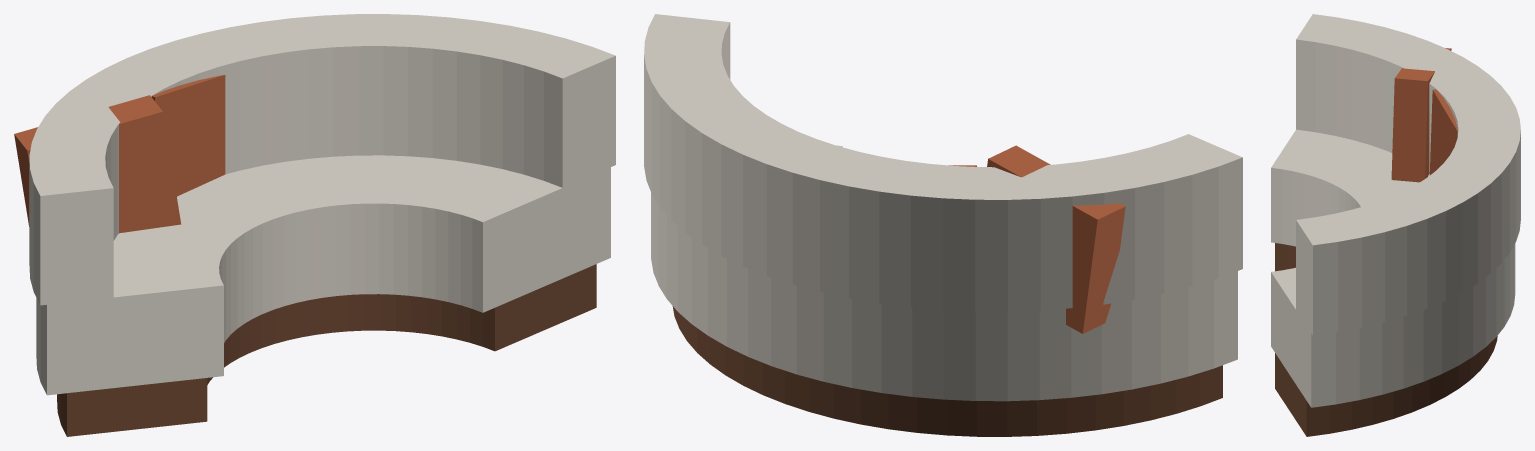
Rendered from curved_sofa.glb.
3 views of the same model, side by side, from view 1: azimuth 30°, elevation 25°; view 2: azimuth 150°, elevation 25°; view 3: azimuth 270°, elevation 25° (orthographic). The views are drawn at different scales.
Visible parts, largest first — view 1: curved_sofa; view 2: curved_sofa; view 3: curved_sofa.
Part boxes in pixels (left/top/right/bottom): curved_sofa: left=14, top=14, right=615, bottom=436; curved_sofa: left=644, top=14, right=1242, bottom=436; curved_sofa: left=1271, top=14, right=1520, bottom=436.
Size of the model in its own units: 1.93 by 0.7992 by 0.8796.
